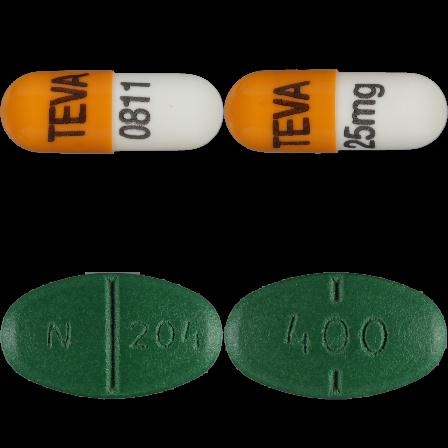68151-2898: (0, 0, 224, 224)
